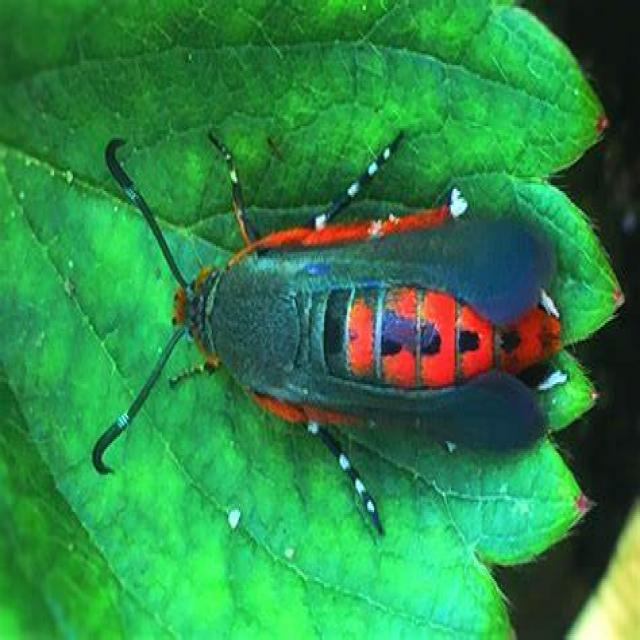squash_vine_borer: (64, 120, 565, 540)
